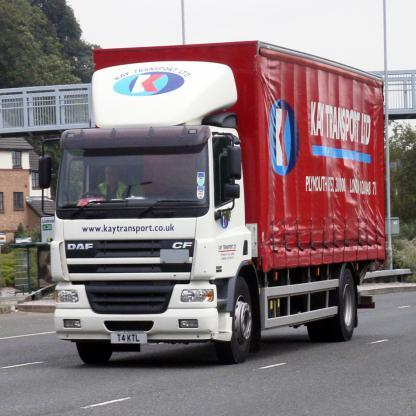truck: (39, 43, 378, 380)
